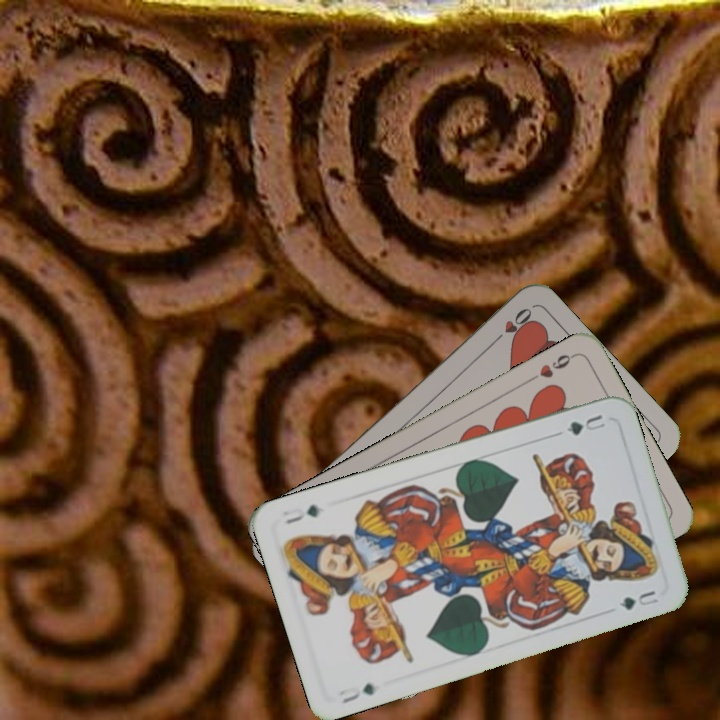GU: (562, 410, 608, 438), (335, 679, 377, 706)
H9: (524, 349, 578, 385)
HO: (487, 303, 535, 349)
